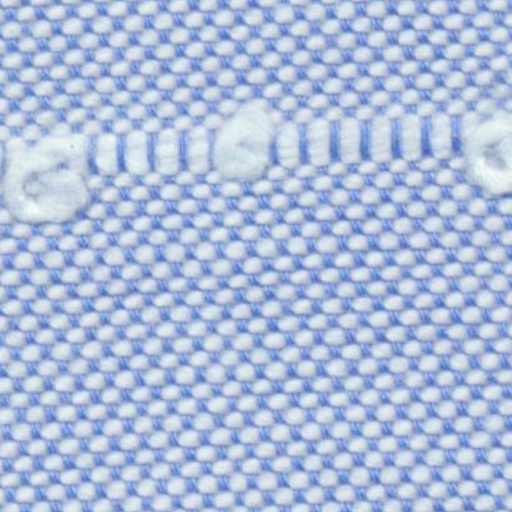DaiSha: (9, 86, 500, 216)
